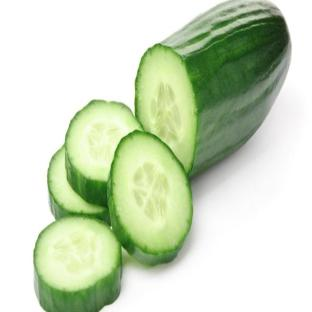Cucumber: (135, 0, 291, 176), (108, 131, 192, 265), (34, 216, 121, 311), (65, 101, 143, 206), (48, 147, 110, 224)
